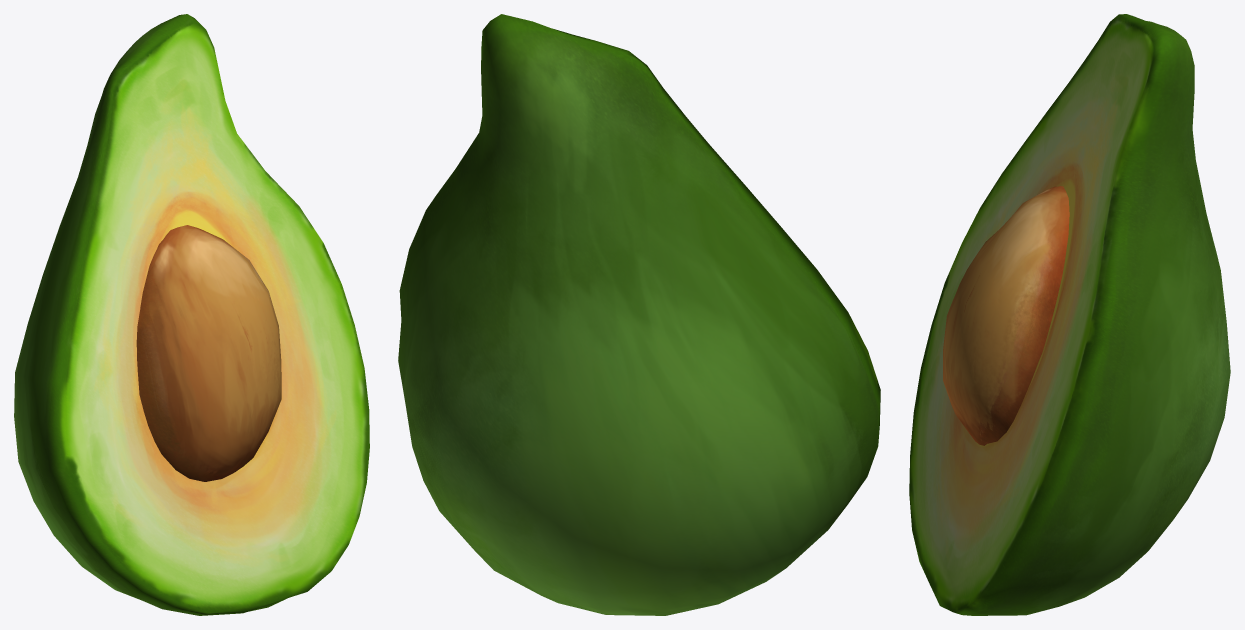
The model's file is avocado.gltf.
The picture shows the model from 3 angles, left to right: view 1: azimuth 30°, elevation 25°; view 2: azimuth 150°, elevation 25°; view 3: azimuth 270°, elevation 25°; orthographic projection. The views are drawn at different scales.
Visible parts, largest first — view 1: Avocado; view 2: Avocado; view 3: Avocado.
Part boxes in pixels (x1,y1,x2,y2): Avocado: (14, 14, 369, 615); Avocado: (398, 14, 880, 615); Avocado: (909, 14, 1230, 615).
Bounding box in the file's own units: 3.36 × 4.81 × 2.44.
Materials: 1 (1 with a texture image).
